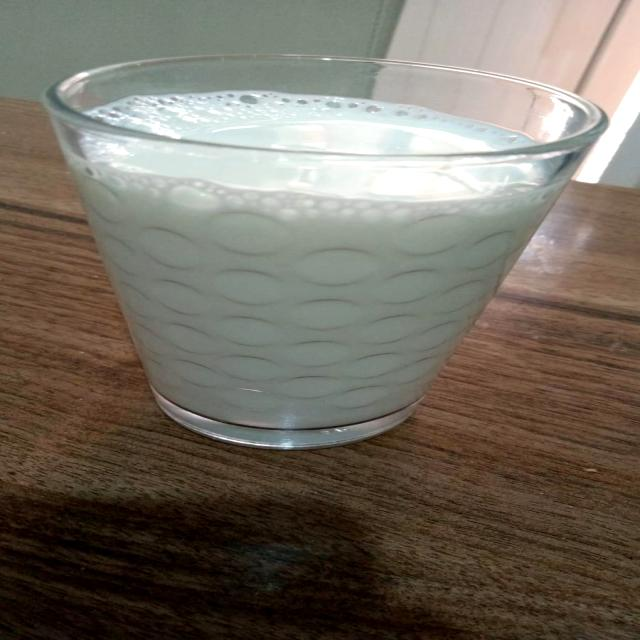milk: (16, 30, 628, 467)
